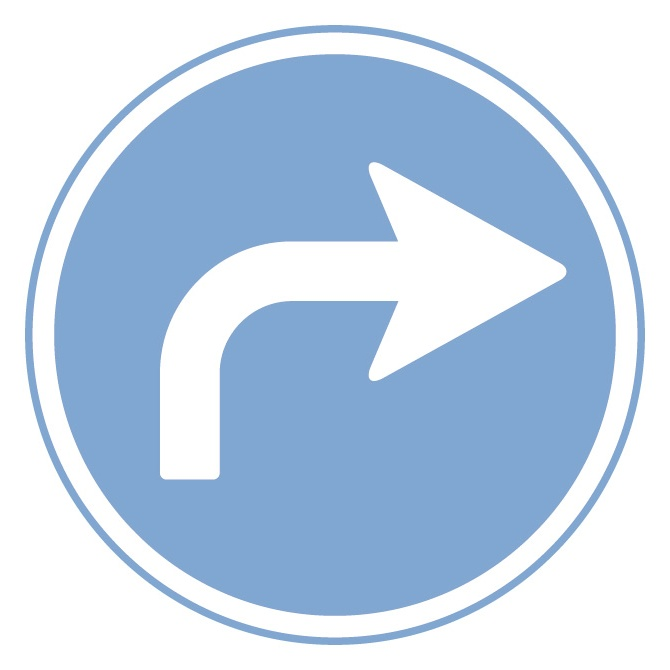Direction_sign: (24, 13, 670, 663)
